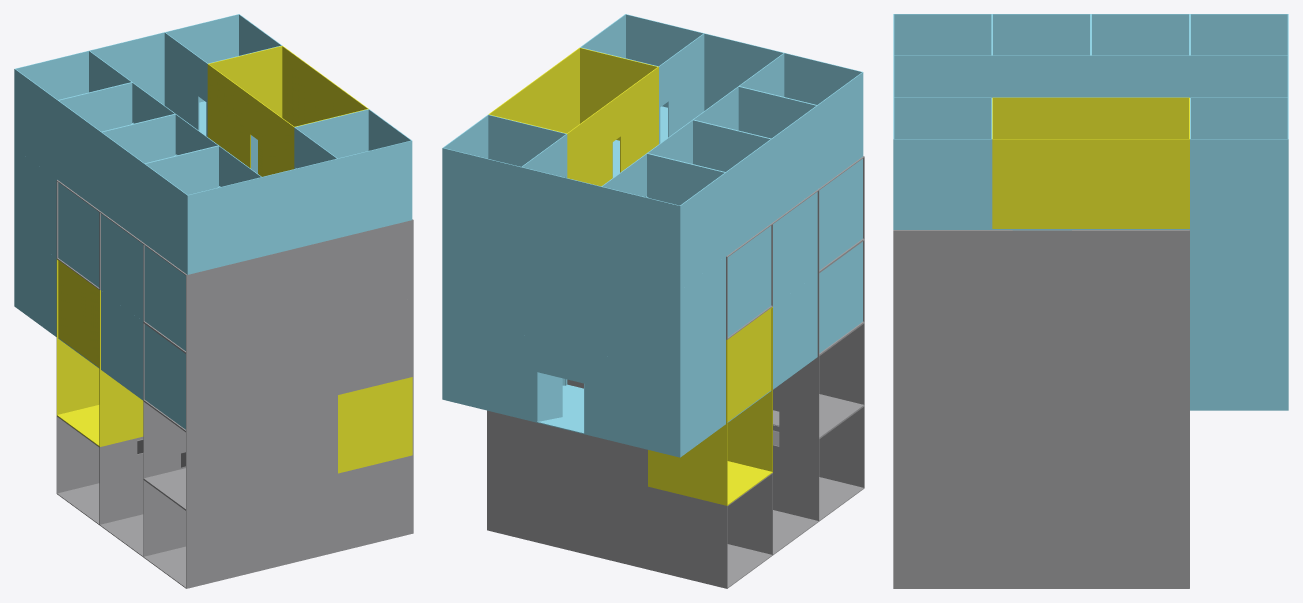
Rendered from 第十四组.glb.
3 renders of one model, left to right at view 1: azimuth 30°, elevation 25°; view 2: azimuth 150°, elevation 25°; view 3: azimuth 270°, elevation 25°, orthographic. The views are drawn at different scales.
Bounding box in the file's own units: 0.0151 × 0.0251 × 0.02.
